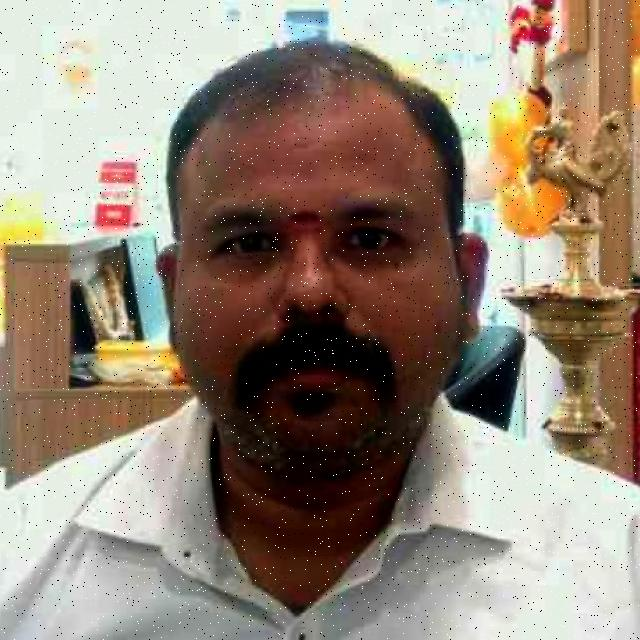puffy_eyes: (208, 257, 277, 284), (334, 253, 404, 275)
